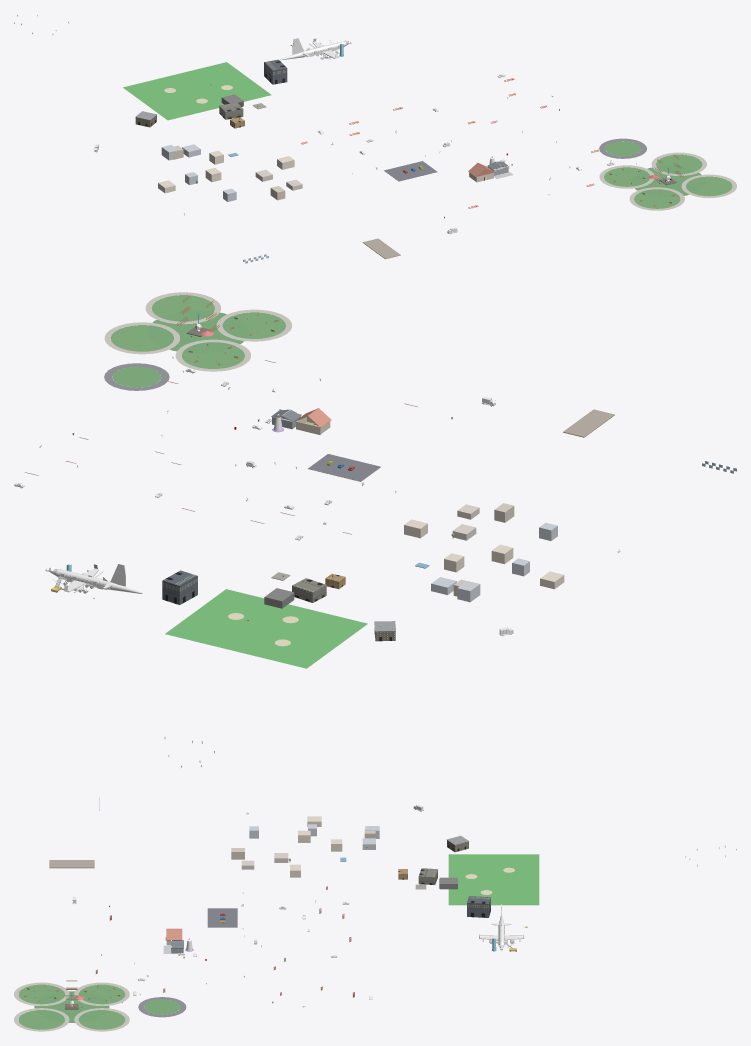
The model's file is tile_-500_-500.glb.
3 renders of one model, top to bottom at view 1: azimuth 30°, elevation 25°; view 2: azimuth 150°, elevation 25°; view 3: azimuth 270°, elevation 25°, orthographic. The views are drawn at different scales.
Visible parts, largest first — view 1: tile; view 2: tile; view 3: tile.
Boxes of the visible parts, bbox=[...] form: tile: bbox=[14, 14, 736, 263]; tile: bbox=[14, 292, 736, 767]; tile: bbox=[14, 797, 736, 1031].
Size of the model in its own units: 352 by 20.77 by 480.
134 materials, 20 textured.
